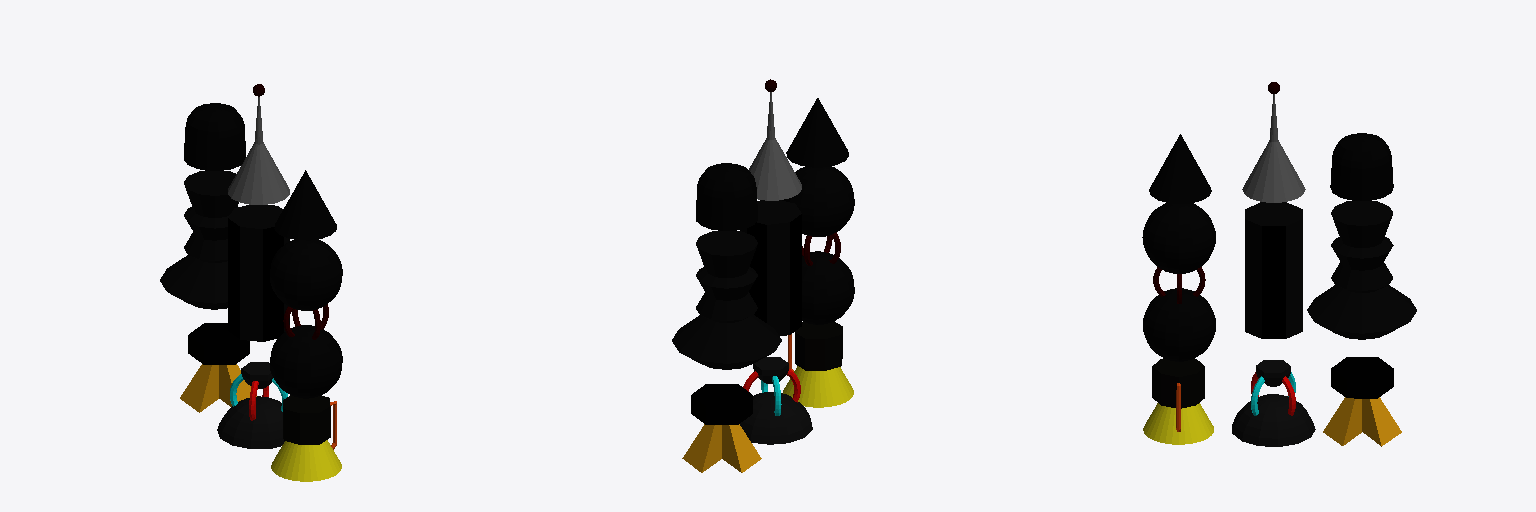
Rendered from RocketParts.obj.
3 renders of one model, left to right at view 1: azimuth 30°, elevation 25°; view 2: azimuth 150°, elevation 25°; view 3: azimuth 270°, elevation 25°, orthographic.
Parts seen in each view (by area): view 1: Body_003_Sphere.001, Body_001_Cylinder.009, Body_002_Cylinder.010, Rocket_001_Cylinder.003, Rocket_002_Cylinder.004, Rocket_003_Sphere, RocketHead_003_Cone.002, RocketHead_001_Cone, RocketHead_002_Cone.001; view 2: Body_002_Cylinder.010, Body_003_Sphere.001, Body_001_Cylinder.009, Rocket_002_Cylinder.004, Rocket_001_Cylinder.003, Rocket_003_Sphere, RocketHead_003_Cone.002, RocketHead_002_Cone.001, RocketHead_001_Cone; view 3: Body_002_Cylinder.010, Body_003_Sphere.001, Body_001_Cylinder.009, Rocket_002_Cylinder.004, Rocket_001_Cylinder.003, Rocket_003_Sphere, RocketHead_003_Cone.002, RocketHead_001_Cone, RocketHead_002_Cone.001.
Boxes of the visible parts, box(x1,y1,x2,y2) form: Body_003_Sphere.001: box(270, 239, 342, 398); Body_001_Cylinder.009: box(228, 205, 289, 341); Body_002_Cylinder.010: box(160, 171, 238, 309); Rocket_001_Cylinder.003: box(271, 395, 341, 481); Rocket_002_Cylinder.004: box(180, 323, 256, 412); Rocket_003_Sphere: box(217, 362, 287, 448); RocketHead_003_Cone.002: box(184, 103, 245, 170); RocketHead_001_Cone: box(228, 84, 289, 204); RocketHead_002_Cone.001: box(274, 170, 336, 240); Body_002_Cylinder.010: box(672, 231, 781, 369); Body_003_Sphere.001: box(782, 166, 854, 324); Body_001_Cylinder.009: box(740, 200, 801, 335); Rocket_002_Cylinder.004: box(682, 384, 761, 472); Rocket_001_Cylinder.003: box(783, 321, 853, 407); Rocket_003_Sphere: box(740, 357, 812, 444); RocketHead_003_Cone.002: box(696, 163, 757, 230); RocketHead_002_Cone.001: box(786, 98, 848, 167); RocketHead_001_Cone: box(749, 79, 801, 200); Body_002_Cylinder.010: box(1307, 201, 1416, 339); Body_003_Sphere.001: box(1142, 203, 1215, 361); Body_001_Cylinder.009: box(1245, 202, 1302, 338); Rocket_002_Cylinder.004: box(1323, 357, 1401, 446); Rocket_001_Cylinder.003: box(1143, 358, 1213, 444); Rocket_003_Sphere: box(1232, 360, 1315, 446); RocketHead_003_Cone.002: box(1330, 133, 1393, 200); RocketHead_001_Cone: box(1242, 82, 1305, 202); RocketHead_002_Cone.001: box(1149, 134, 1211, 203).
Size of the model in its own units: 6.31 by 21.87 by 15.68.